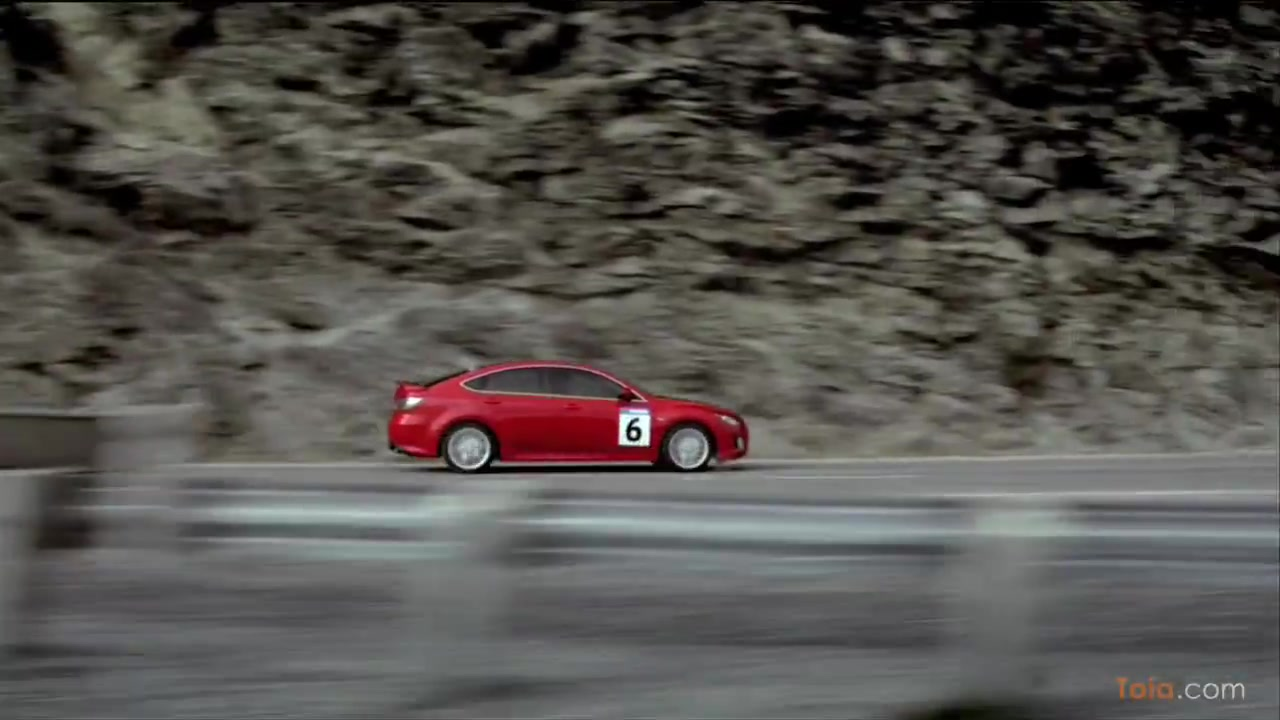car: (389, 351, 751, 473)
